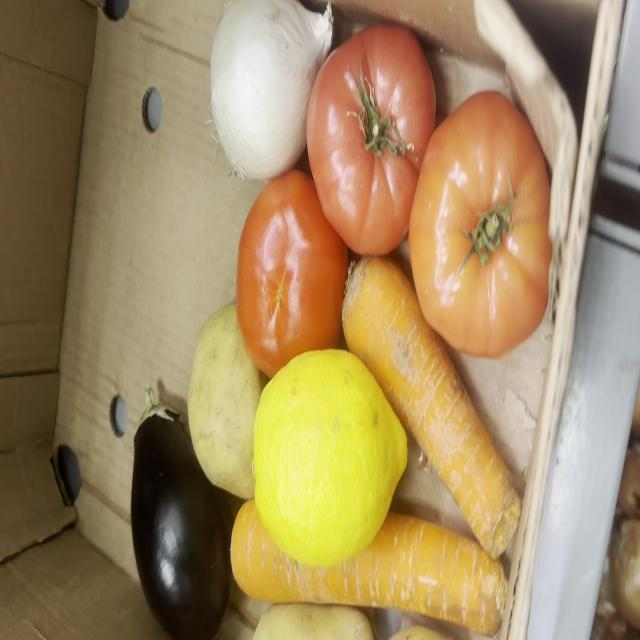carrot: (342, 256, 520, 556), (231, 499, 508, 635)
potato: (188, 304, 268, 499)
tomato: (409, 93, 551, 357), (306, 24, 436, 255), (236, 170, 349, 377)
